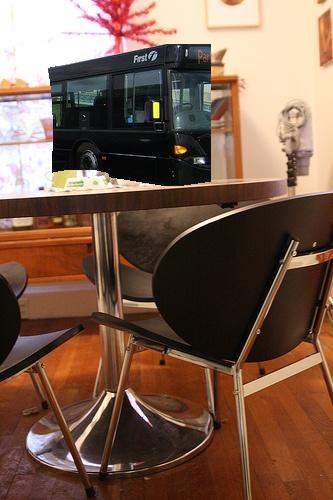tampered: (49, 45, 211, 186)
